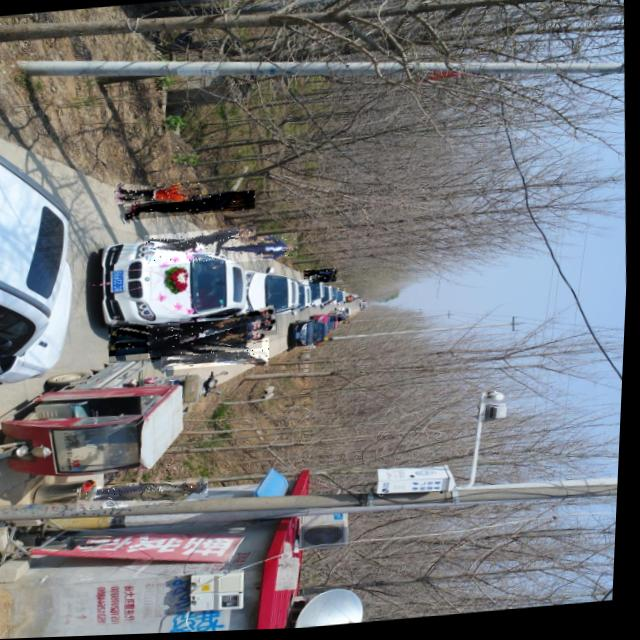Person: (109, 317, 251, 364), (148, 317, 266, 360), (144, 228, 259, 268), (80, 478, 213, 512), (125, 192, 257, 222), (162, 340, 272, 373), (181, 312, 280, 345), (115, 181, 203, 209), (220, 235, 299, 266), (305, 270, 338, 282), (313, 276, 338, 286), (332, 318, 348, 325), (339, 316, 351, 320)
